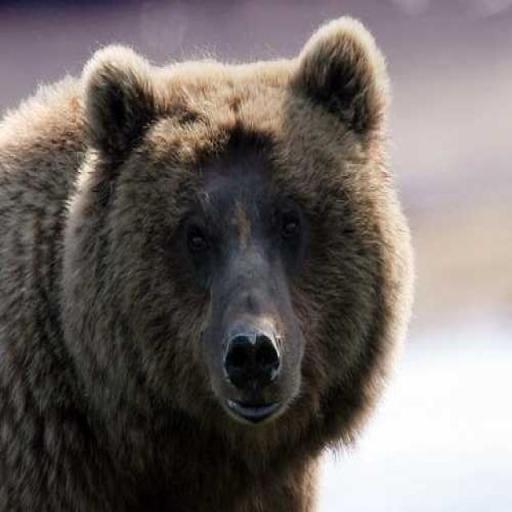Bear: (0, 12, 414, 510)
